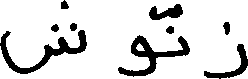ز: (203, 19, 245, 76)
ش: (0, 0, 85, 74)
ن: (162, 22, 187, 56)
و: (118, 32, 153, 77)
